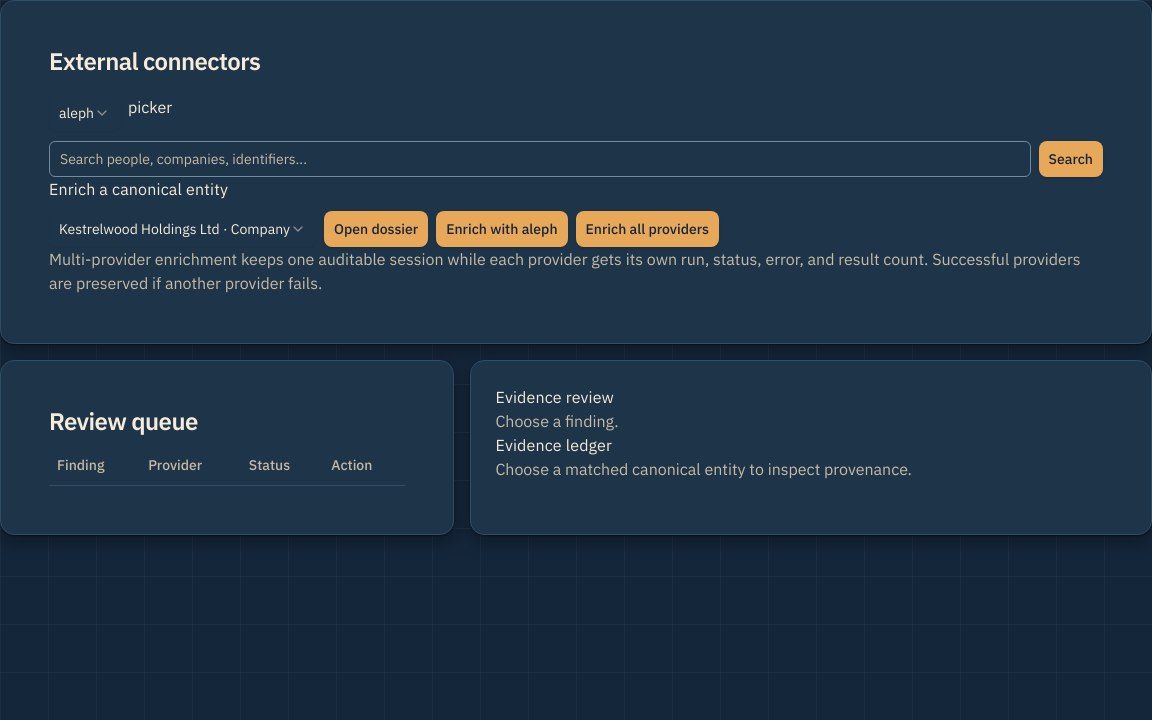
Test case: ConnectorsPanel › enriches the selected entity with one provider and reports the count
Expected: the button "Open dossier" is enabled, [324,211,428,247]
Click the button "Enrich with aleph": {"x": 502, "y": 229} [436,211,568,247]
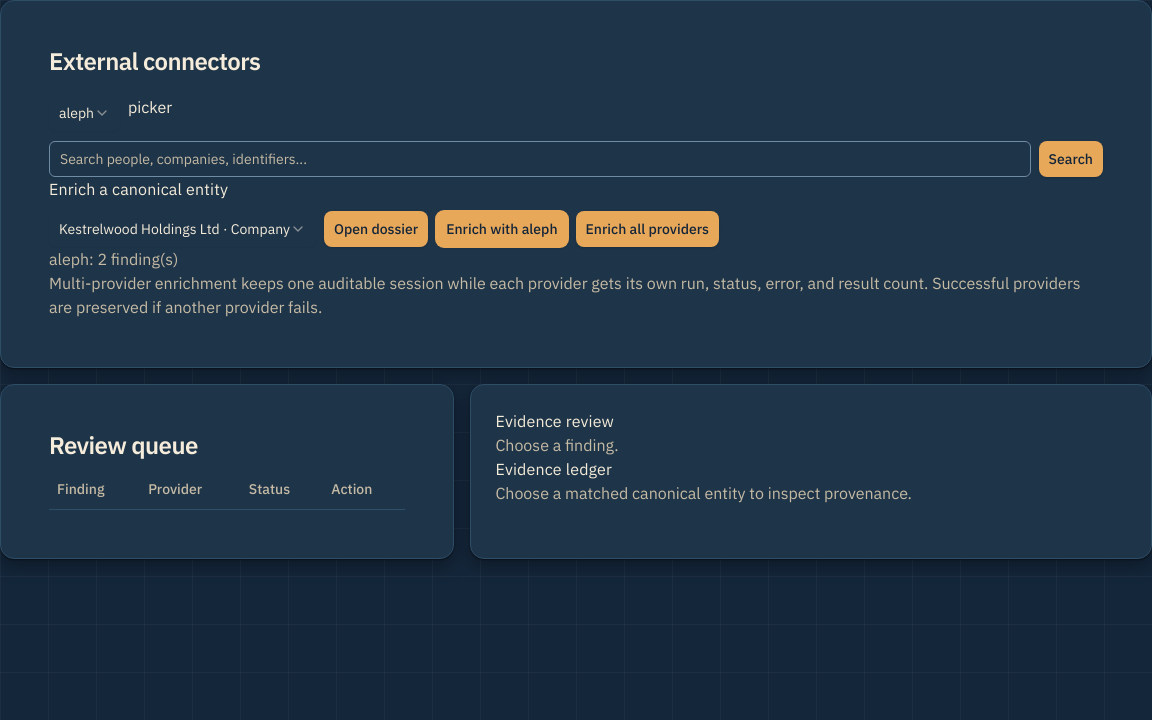
Expected: the text "aleph: 2 finding(s)" is shown, [49,249,178,269]
